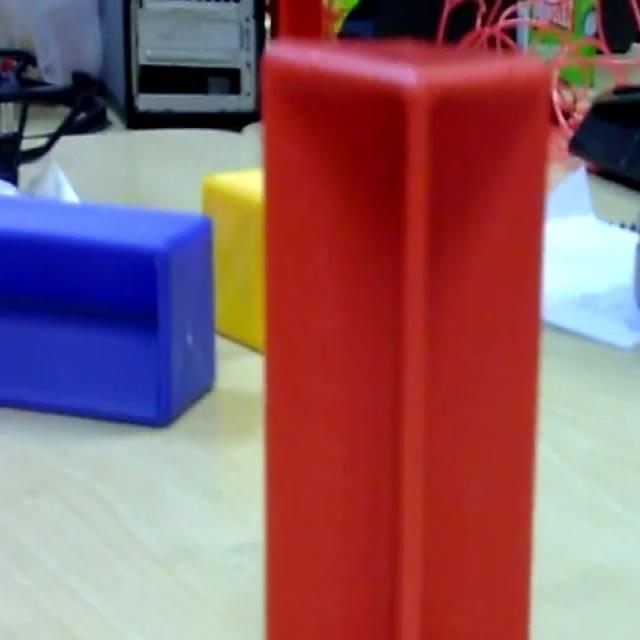blue_block: (0, 180, 216, 428)
red_block: (260, 35, 550, 636)
yellow_block: (200, 164, 266, 355)
